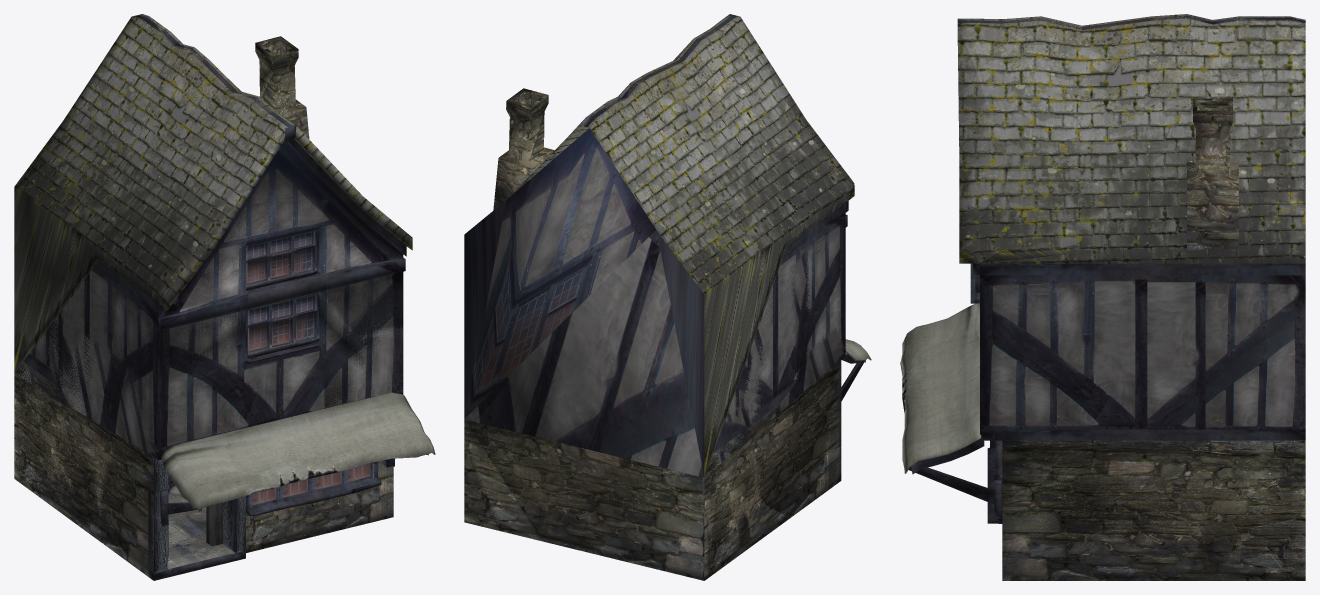
The model's file is Mercantile.dae.
The picture shows the model from 3 angles, left to right: view 1: azimuth 30°, elevation 25°; view 2: azimuth 150°, elevation 25°; view 3: azimuth 270°, elevation 25°; orthographic projection. The views are drawn at different scales.
Visible parts, largest first — view 1: merc500, merc300; view 2: merc300, merc500; view 3: merc500, merc300.
Part boxes in pixels (left/top/right/bottom): merc500: left=14, top=14, right=435, bottom=580; merc300: left=14, top=14, right=427, bottom=580; merc300: left=464, top=18, right=854, bottom=580; merc500: left=464, top=14, right=871, bottom=580; merc500: left=900, top=14, right=1305, bottom=580; merc300: left=902, top=14, right=1305, bottom=580.
Bounding box in the file's own units: 24518 × 30746 × 41538.
